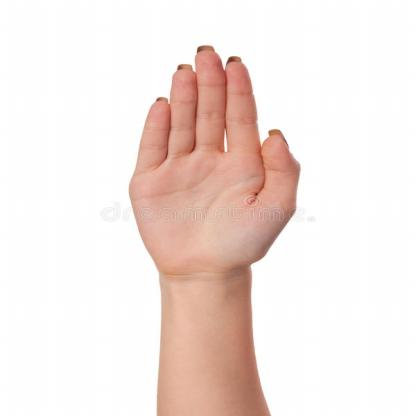palm: (126, 44, 307, 280)
